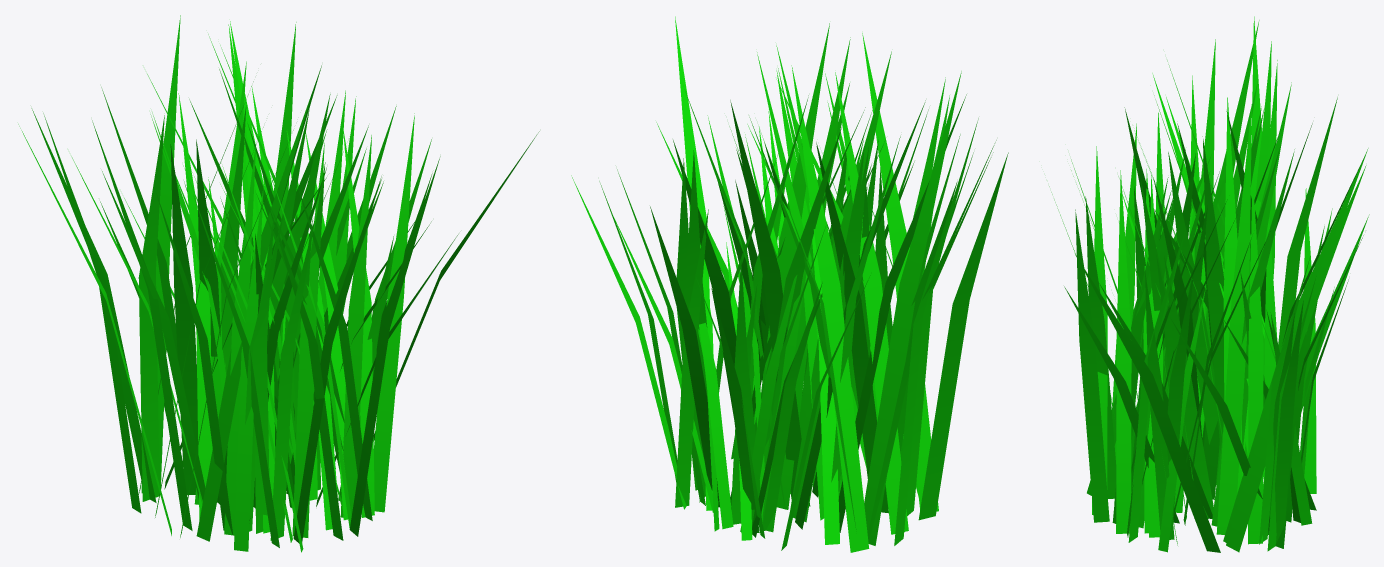
Rendered from Grass_005.fbx.
The picture shows the model from 3 angles, left to right: view 1: azimuth 30°, elevation 25°; view 2: azimuth 150°, elevation 25°; view 3: azimuth 270°, elevation 25°; orthographic projection. The views are drawn at different scales.
Visible parts, largest first — view 1: Grass.005; view 2: Grass.005; view 3: Grass.005.
Boxes of the visible parts, left/top/right/bottom form: Grass.005: left=18, top=15, right=539, bottom=552; Grass.005: left=571, top=16, right=1008, bottom=552; Grass.005: left=1049, top=16, right=1369, bottom=552.
Bounding box in the file's own units: 228 × 224 × 165.
